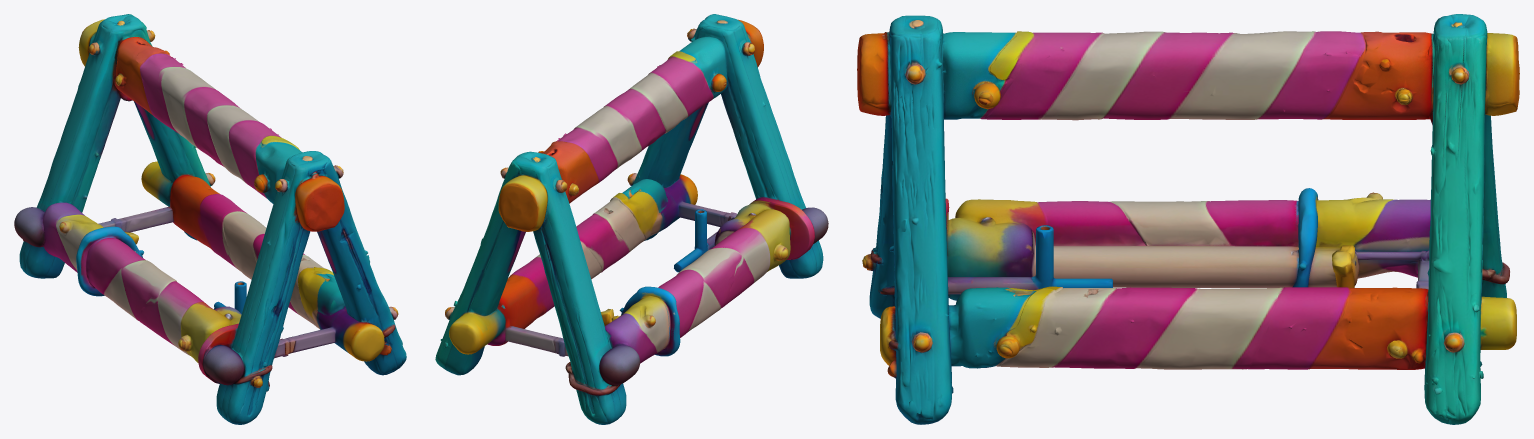
Rendered from barricade.glb.
The picture shows the model from 3 angles, left to right: view 1: azimuth 30°, elevation 25°; view 2: azimuth 150°, elevation 25°; view 3: azimuth 270°, elevation 25°; orthographic projection. The views are drawn at different scales.
Parts seen in each view (by area): view 1: tripo_node_c4b5f856-1e10-4ed4-b2e5-d0aff4020f6b; view 2: tripo_node_c4b5f856-1e10-4ed4-b2e5-d0aff4020f6b; view 3: tripo_node_c4b5f856-1e10-4ed4-b2e5-d0aff4020f6b.
Boxes of the visible parts, x1=… form: tripo_node_c4b5f856-1e10-4ed4-b2e5-d0aff4020f6b: x1=14, y1=14, x2=406, y2=424; tripo_node_c4b5f856-1e10-4ed4-b2e5-d0aff4020f6b: x1=435, y1=14, x2=828, y2=424; tripo_node_c4b5f856-1e10-4ed4-b2e5-d0aff4020f6b: x1=857, y1=14, x2=1519, y2=424.
Size of the model in its own units: 0.4892 by 0.5745 by 0.982.
Materials: 1 (1 with a texture image).
